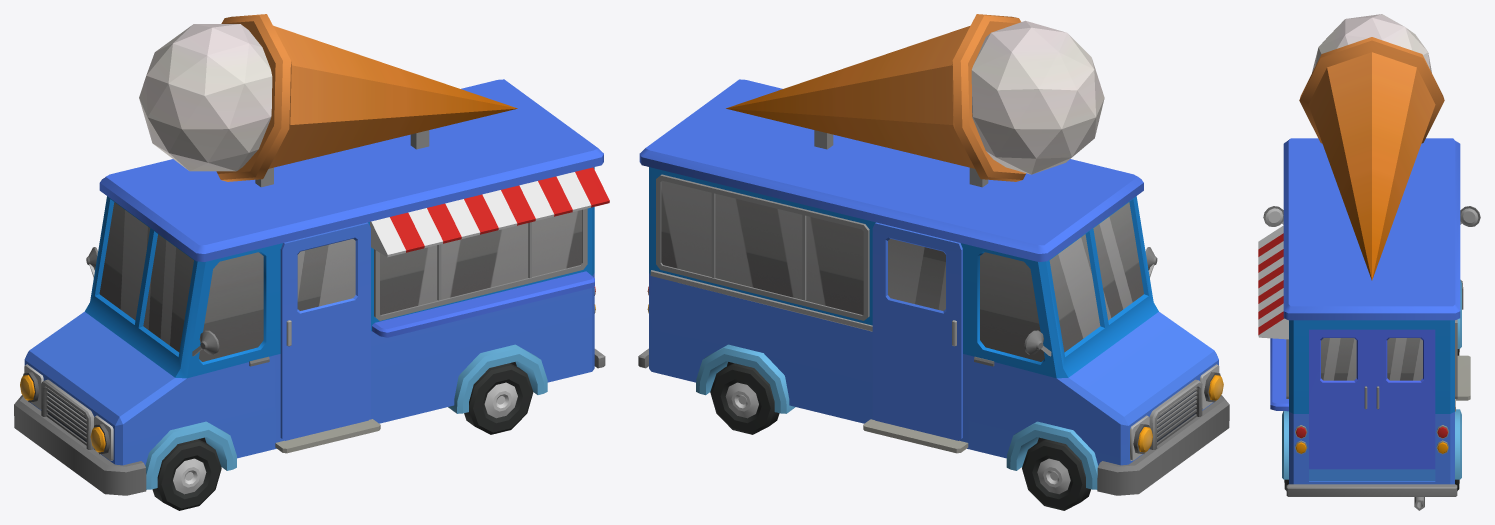
File: IceTruck_1_B.fbx
3 views of the same model, side by side, from view 1: azimuth 30°, elevation 25°; view 2: azimuth 150°, elevation 25°; view 3: azimuth 270°, elevation 25° (orthographic). The views are drawn at different scales.
Parts seen in each view (by area): view 1: IceTruck_1_B, RL, FL; view 2: IceTruck_1_B, RR, FR; view 3: IceTruck_1_B.
Boxes of the visible parts, <box> form: IceTruck_1_B: <box>14,14,609,495</box>; RL: <box>464,363,533,434</box>; FL: <box>152,439,221,510</box>; IceTruck_1_B: <box>638,14,1229,495</box>; RR: <box>710,363,779,434</box>; FR: <box>1022,439,1090,510</box>; IceTruck_1_B: <box>1258,14,1480,510</box>.
Size of the model in its own units: 416 by 338 by 184.
